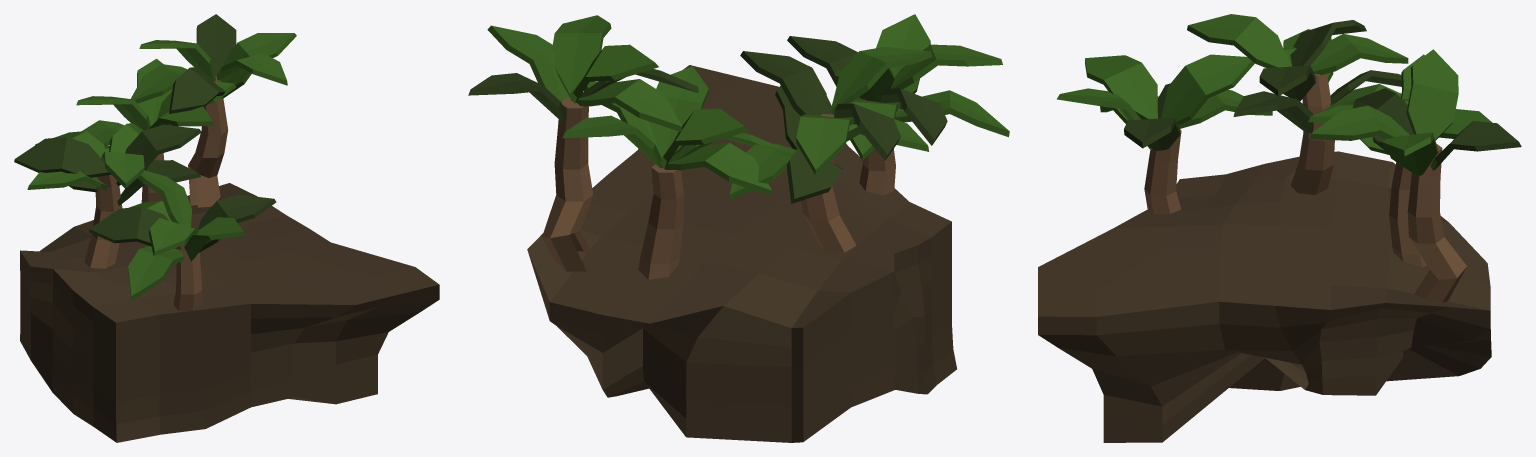
File: Island.fbx
3 renders of one model, left to right at view 1: azimuth 30°, elevation 25°; view 2: azimuth 150°, elevation 25°; view 3: azimuth 270°, elevation 25°, orthographic. The views are drawn at different scales.
Parts seen in each view (by area): view 1: Cylinder.006; view 2: Cylinder.006; view 3: Cylinder.006.
Part boxes in pixels (x1,y1,x2,y2): Cylinder.006: [14, 14, 439, 442]; Cylinder.006: [468, 14, 1009, 442]; Cylinder.006: [1038, 14, 1521, 442].
Size of the model in its own units: 1434 by 1281 by 1601.
